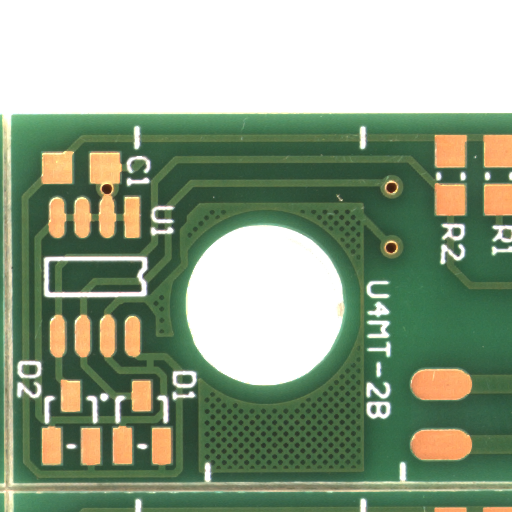Short: (150, 363, 165, 378)
